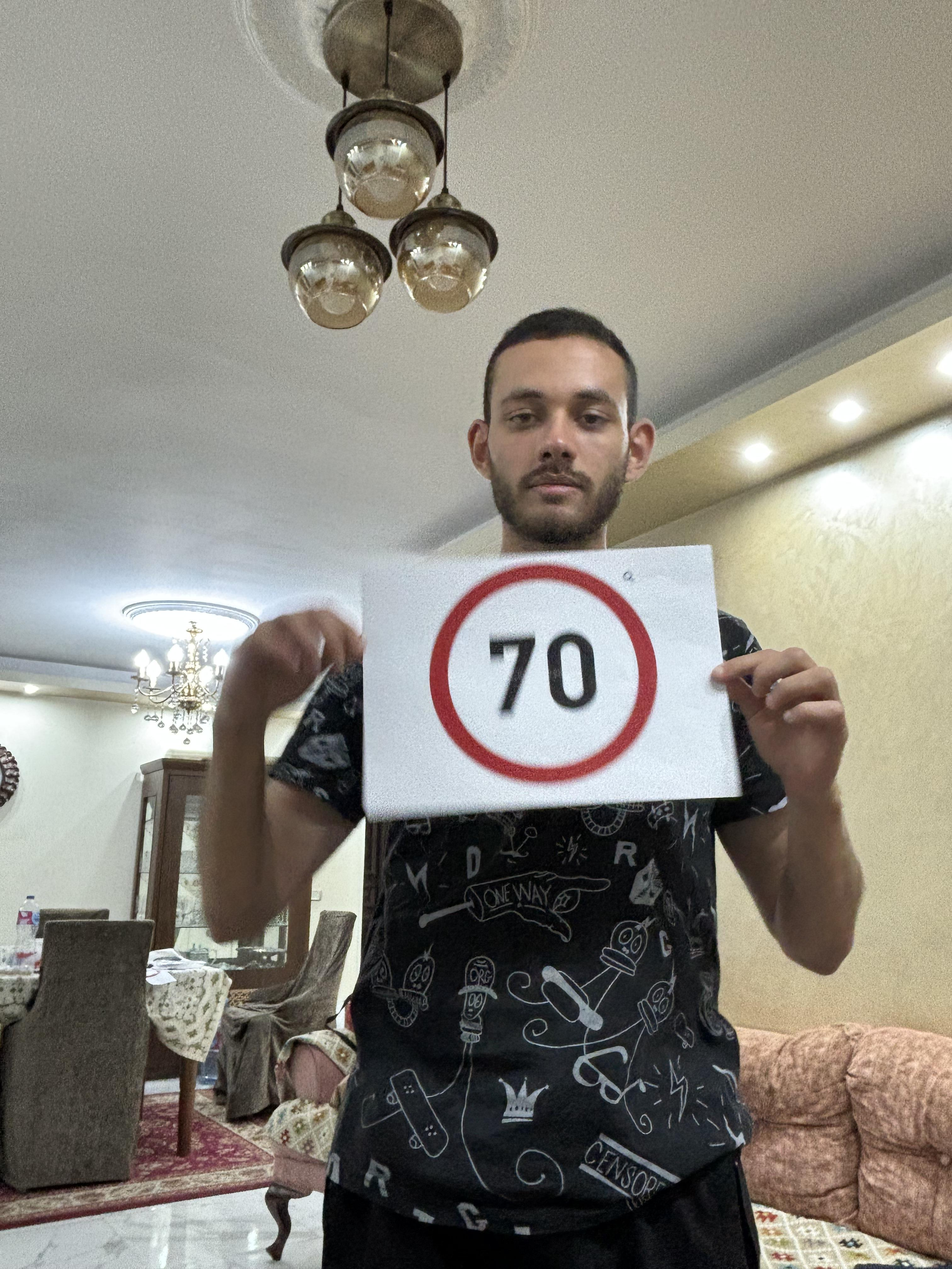70-Speed: (422, 564, 674, 785)
